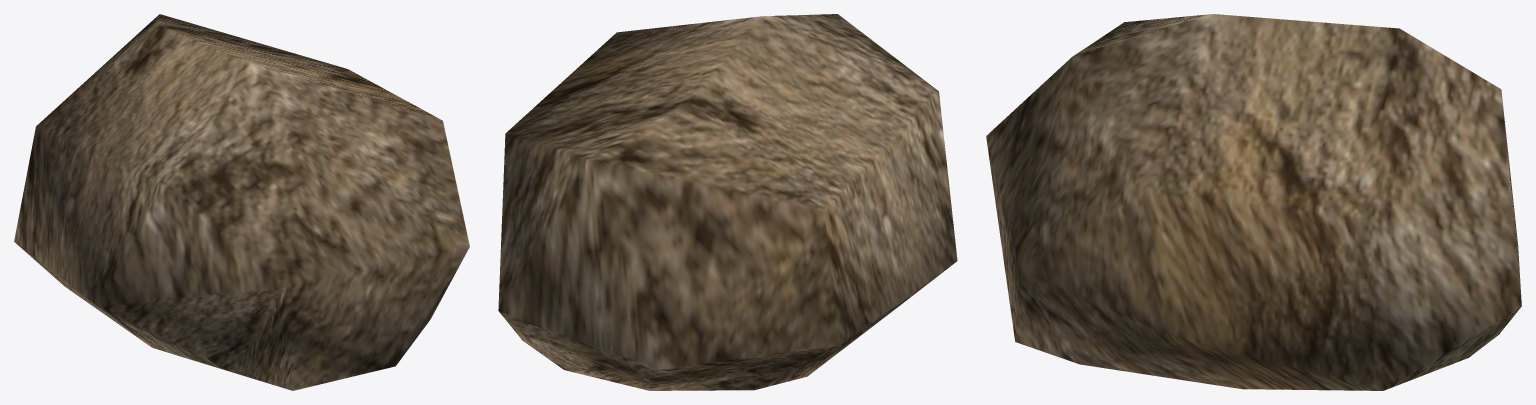
File: stone13_tex1.fbx
3 renders of one model, left to right at view 1: azimuth 30°, elevation 25°; view 2: azimuth 150°, elevation 25°; view 3: azimuth 270°, elevation 25°, orthographic. The views are drawn at different scales.
Visible parts, largest first — view 1: stone13_tex1Object; view 2: stone13_tex1Object; view 3: stone13_tex1Object.
Boxes of the visible parts, bbox=[...] form: stone13_tex1Object: bbox=[14, 14, 469, 390]; stone13_tex1Object: bbox=[498, 14, 957, 390]; stone13_tex1Object: bbox=[986, 14, 1521, 390].
Size of the model in its own units: 0.4367 by 0.3099 by 0.5103.
1 material, 1 textured.
